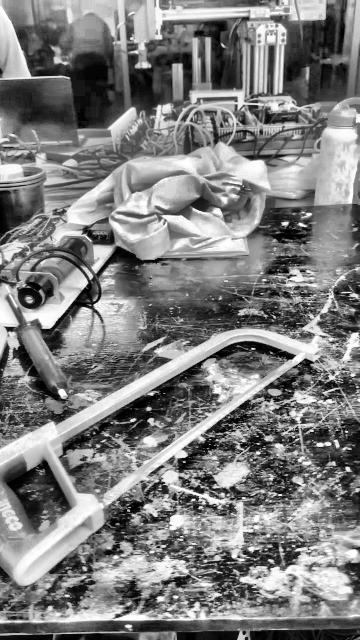pot: (0, 167, 47, 233)
